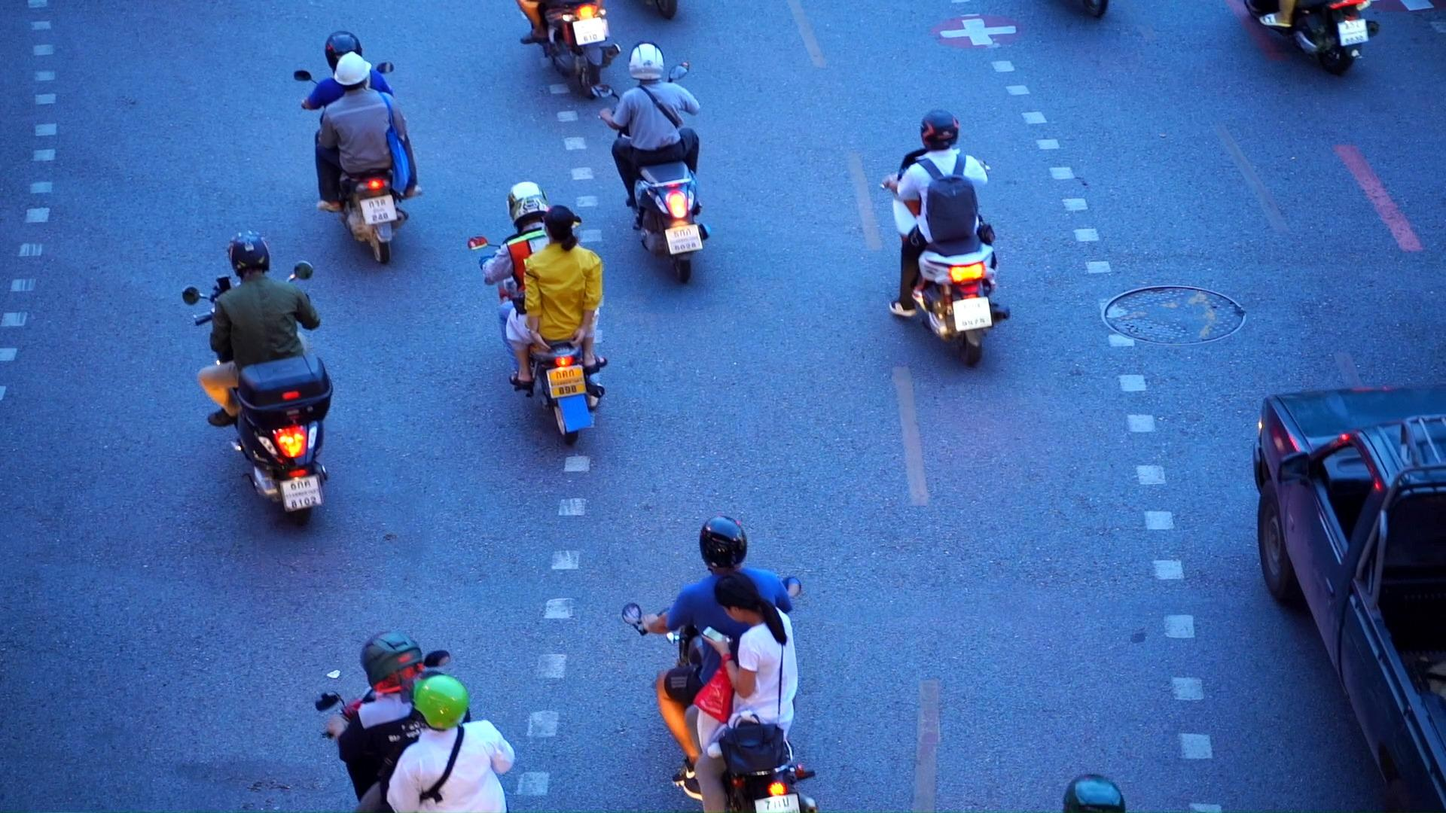driver: (622, 515, 819, 813), (182, 229, 334, 527), (467, 181, 609, 445), (313, 630, 515, 813), (879, 109, 1011, 366), (294, 31, 423, 265), (590, 41, 713, 285), (516, 0, 622, 100), (1243, 0, 1380, 76)
helmet: (400, 670, 469, 732), (361, 630, 423, 693), (700, 515, 748, 570), (1063, 775, 1126, 813), (227, 229, 271, 281), (506, 182, 550, 230), (325, 31, 363, 75), (920, 109, 959, 150), (334, 51, 372, 91), (628, 41, 664, 81)
no-helmet: (714, 571, 786, 626), (541, 205, 577, 252)
